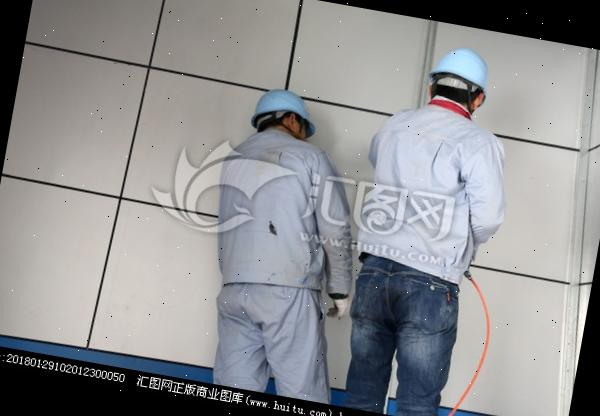helmet: (426, 40, 498, 92), (250, 85, 315, 125)
wear: (350, 99, 502, 283), (204, 126, 351, 302)
